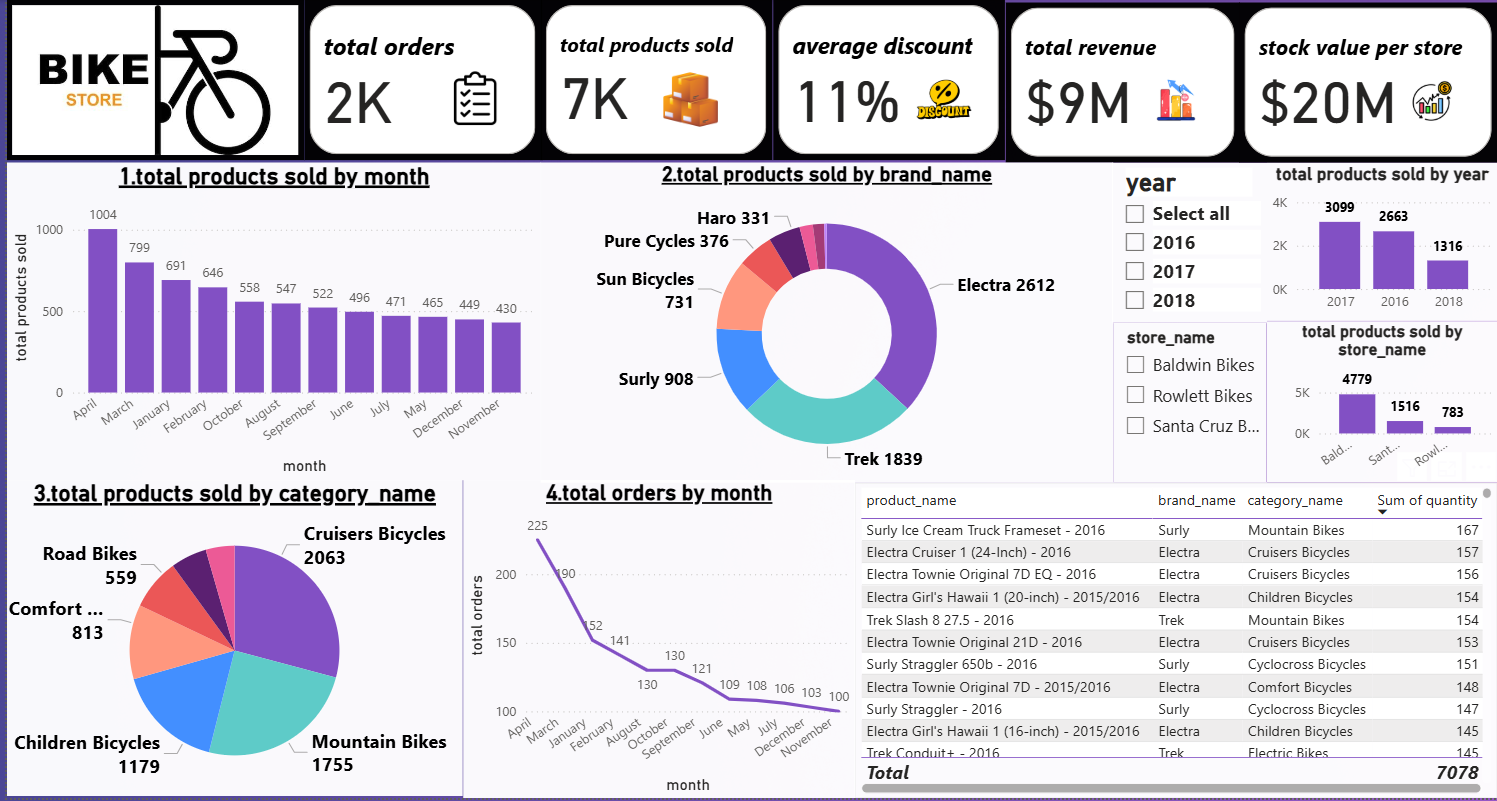

The dashboard page shown, as its layout file describes it:
{"tool":"powerbi","page":{"name":"BIKE STORE DASHBOARD","canvas":[1400,750],"ordinal":0},"visuals":[{"type":"cardVisual","fields":{"Data":["brands.total revenue"]},"box":[937.5,2.5,220.4,150.3],"z":0},{"type":"cardVisual","fields":{"Data":["brands.total orders"]},"box":[279,0,222.9,150.3],"z":1000},{"type":"cardVisual","fields":{"Data":["brands.total products sold"]},"box":[501.9,0,217.8,150.3],"z":2000},{"type":"cardVisual","fields":{"Data":["brands.average discount"]},"box":[719.7,0,217.8,150.3],"z":3000},{"type":"tableEx","fields":{"Values":["products.product_name","brands.brand_name","categories.category_name","Sum(order_items.quantity)"]},"box":[796.1,453.5,603.8,296.8],"z":4000},{"type":"columnChart","title":"1.total products sold by month","fields":{"Category":["orders.month"],"Y":["brands.total products sold"]},"box":[0,152.9,501.9,298.1],"z":5000},{"type":"donutChart","title":"2.total products sold by brand_name","fields":{"Y":["brands.total products sold"],"Category":["brands.brand_name"]},"box":[501.9,152.9,537.5,300.6],"z":6000},{"type":"pieChart","title":"3.total products sold by category_name","fields":{"Category":["categories.category_name"],"Y":["brands.total products sold"]},"box":[0,450.9,428,296.8],"z":7000},{"type":"image","box":[0,0,279,150.3],"z":8000},{"type":"lineChart","title":"4.total orders by month","fields":{"Y":["brands.total orders"],"Category":["orders.month"]},"box":[428,450.9,368.1,299.3],"z":9000},{"type":"slicer","fields":{"Values":["stores.store_name"]},"box":[1039.4,303.2,143.9,150.3],"z":10000},{"type":"slicer","fields":{"Values":["orders.year"]},"box":[1038.1,152.9,145.2,150.3],"z":11000},{"type":"columnChart","fields":{"Category":["orders.year"],"Y":["brands.total products sold"]},"box":[1183.3,152.9,216.5,149],"z":12000},{"type":"columnChart","fields":{"Category":["stores.store_name"],"Y":["brands.total products sold"]},"box":[1183.3,301.9,216.5,151.6],"z":13000},{"type":"cardVisual","fields":{"Data":["brands.stock value"]},"box":[1157.9,2.5,242,150.3],"z":14000},{"type":"image","box":[410.2,59.9,59.9,65],"z":15000},{"type":"image","box":[611.4,59.9,61.1,67.5],"z":16000},{"type":"image","box":[848.3,59.9,62.4,67.5],"z":17000},{"type":"image","box":[1068.7,68.8,59.9,49.7],"z":18000},{"type":"image","box":[1314.5,70.1,47.1,48.4],"z":19000}]}

Visuals, with their boxes in screenshot pixels (x1, y1, x2, y2), scaled from the page's 1400x750 canvas onto the 1497x801 screenshot:
cardVisual - brands.total revenue: crop(1002, 3, 1238, 163)
cardVisual - brands.total orders: crop(298, 0, 537, 161)
cardVisual - brands.total products sold: crop(537, 0, 770, 161)
cardVisual - brands.average discount: crop(770, 0, 1002, 161)
tableEx - products.product_name x brands.brand_name: crop(851, 484, 1496, 800)
"1.total products sold by month" columnChart: crop(0, 163, 537, 482)
"2.total products sold by brand_name" donutChart: crop(537, 163, 1111, 484)
"3.total products sold by category_name" pieChart: crop(0, 482, 458, 799)
image: crop(0, 0, 298, 161)
"4.total orders by month" lineChart: crop(458, 482, 851, 800)
slicer - stores.store_name: crop(1111, 324, 1265, 484)
slicer - orders.year: crop(1110, 163, 1265, 324)
columnChart - orders.year x brands.total products sold: crop(1265, 163, 1496, 322)
columnChart - stores.store_name x brands.total products sold: crop(1265, 322, 1496, 484)
cardVisual - brands.stock value: crop(1238, 3, 1496, 163)
image: crop(439, 64, 503, 133)
image: crop(654, 64, 719, 136)
image: crop(907, 64, 974, 136)
image: crop(1143, 73, 1207, 127)
image: crop(1406, 75, 1456, 127)
